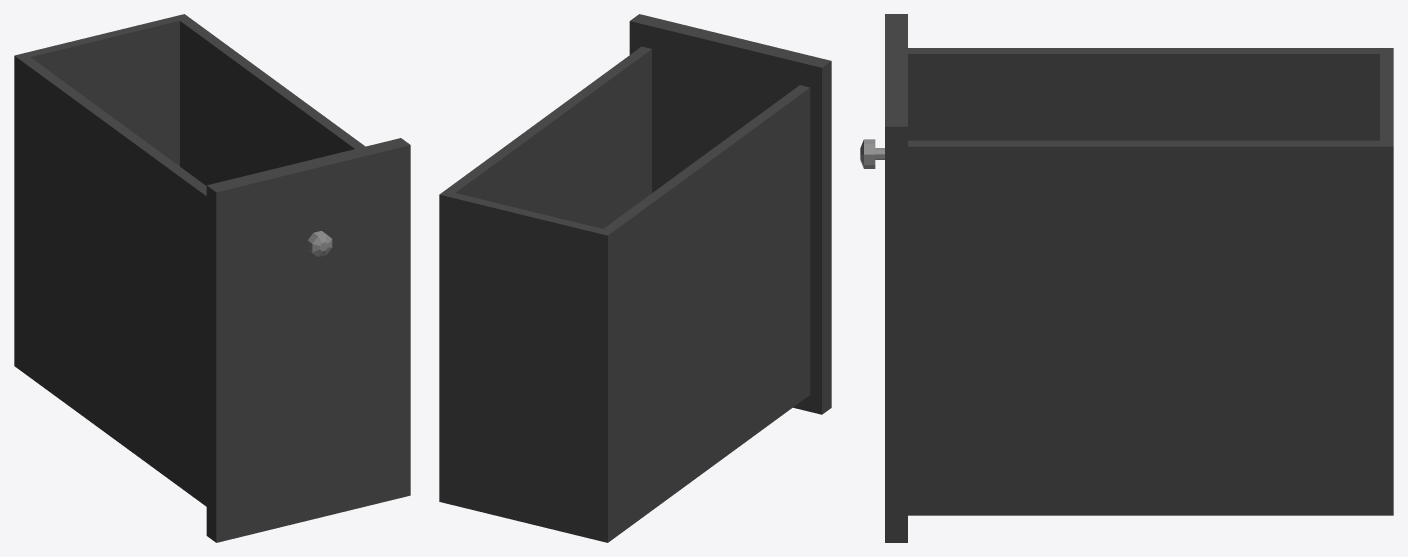
The model's file is Door3_C3_08.fbx.
The picture shows the model from 3 angles, left to right: view 1: azimuth 30°, elevation 25°; view 2: azimuth 150°, elevation 25°; view 3: azimuth 270°, elevation 25°; orthographic projection. The views are drawn at different scales.
Visible parts, largest first — view 1: Door3_C3_08; view 2: Door3_C3_08; view 3: Door3_C3_08.
Part boxes in pixels (left/top/right/bottom): Door3_C3_08: left=14, top=14, right=410, bottom=542; Door3_C3_08: left=439, top=14, right=831, bottom=542; Door3_C3_08: left=860, top=14, right=1393, bottom=542.
Size of the model in its own units: 29 by 50 by 58.03.
